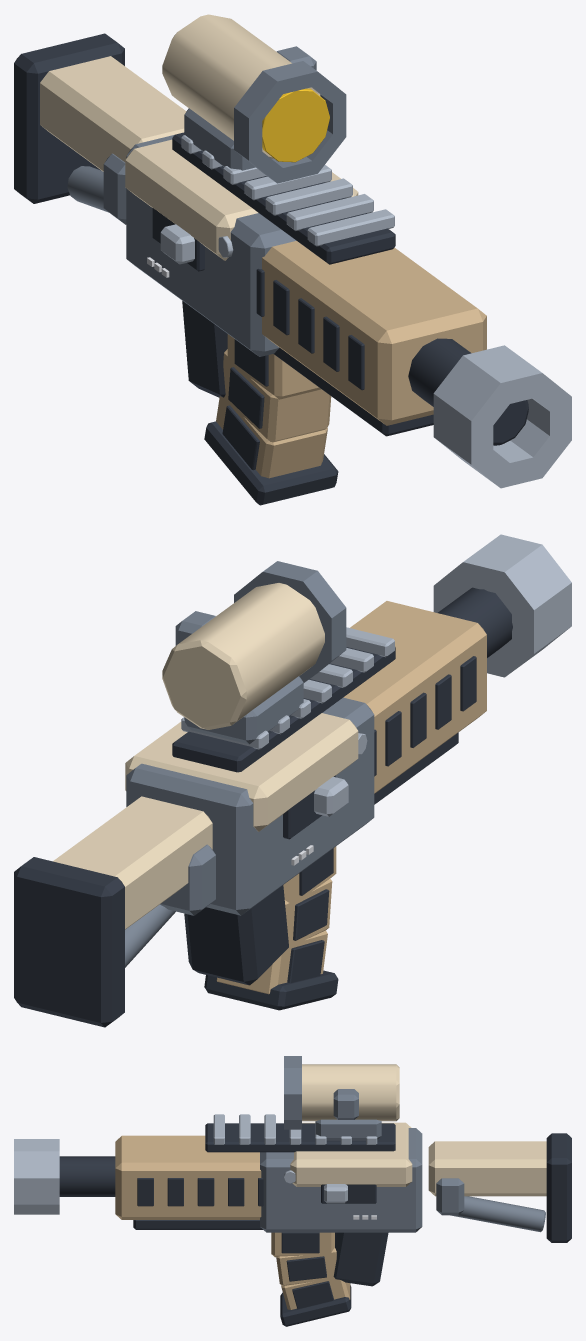
The model's file is Military_AR_v001.fbx.
The picture shows the model from 3 angles, top to bottom: view 1: azimuth 30°, elevation 25°; view 2: azimuth 150°, elevation 25°; view 3: azimuth 270°, elevation 25°; orthographic projection. The views are drawn at different scales.
Visible parts, largest first — view 1: Military_AR__RECEIVER_MESH, Military_AR__MAGAZINE_MESH; view 2: Military_AR__RECEIVER_MESH, Military_AR__MAGAZINE_MESH; view 3: Military_AR__RECEIVER_MESH, Military_AR__MAGAZINE_MESH.
Part boxes in pixels (x1,y1,x2,y2): Military_AR__RECEIVER_MESH: [14, 14, 571, 488]; Military_AR__MAGAZINE_MESH: [204, 334, 338, 505]; Military_AR__RECEIVER_MESH: [14, 534, 571, 1027]; Military_AR__MAGAZINE_MESH: [204, 846, 338, 1010]; Military_AR__RECEIVER_MESH: [14, 1056, 571, 1286]; Military_AR__MAGAZINE_MESH: [271, 1232, 351, 1326].
Bounding box in the file's own units: 0.475 × 1.11 × 2.2.
